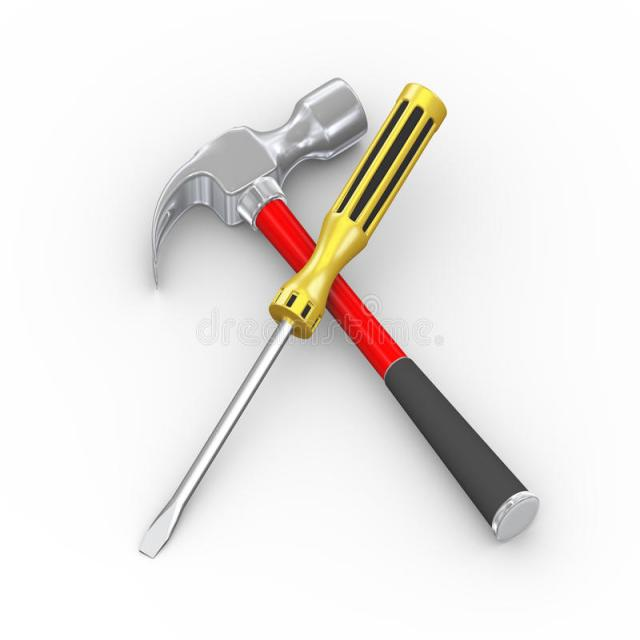Screwdriver: (139, 81, 447, 560)
